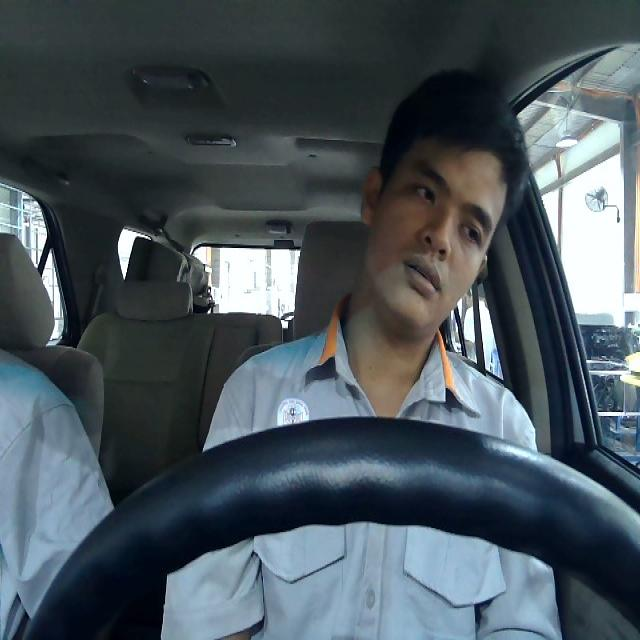seeing_right: (361, 138, 507, 334)
